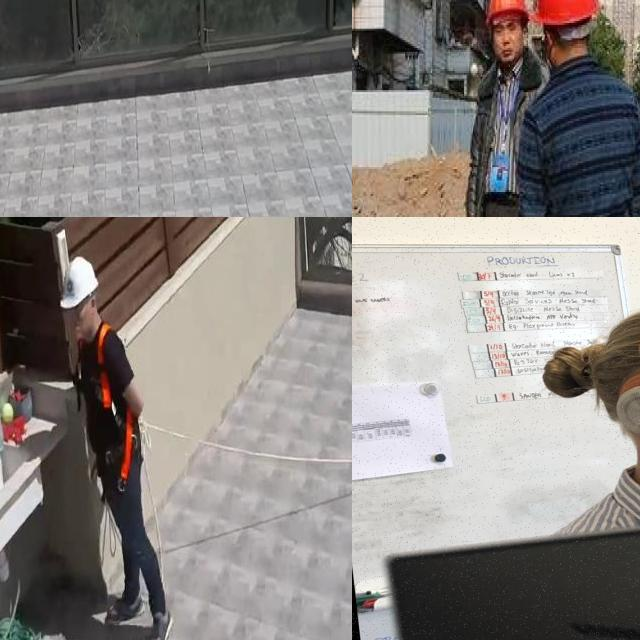Ear-protection: (585, 367, 640, 446)
Harness: (95, 325, 135, 495)
